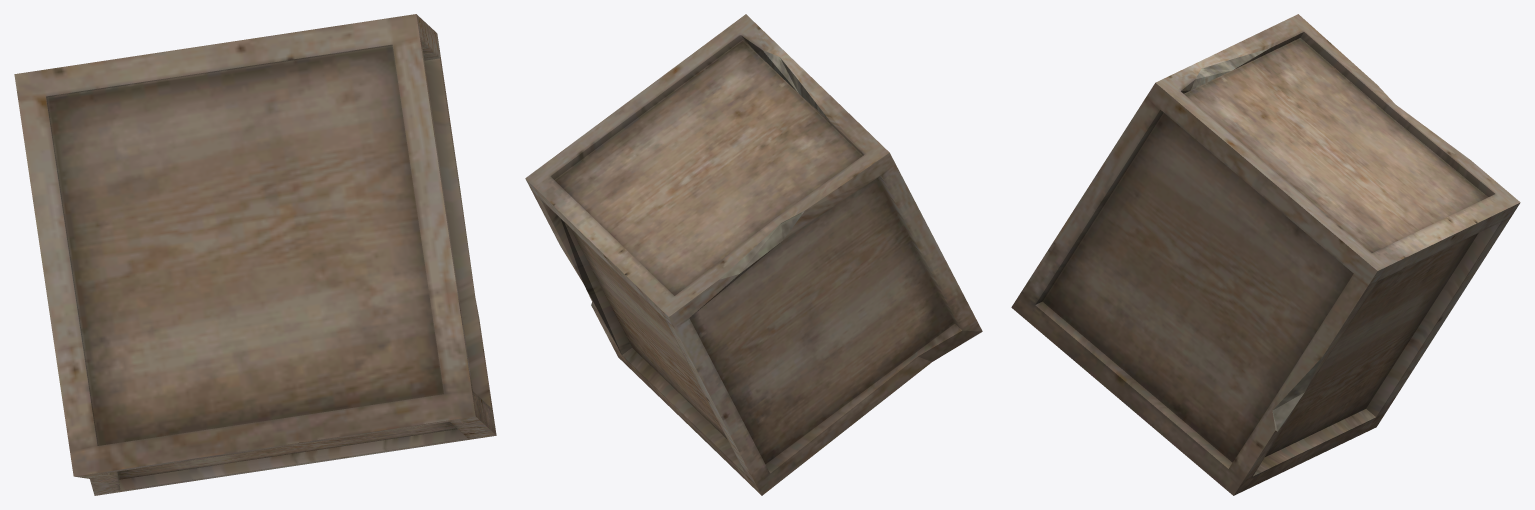
The model's file is ItemSpot.fbx.
The picture shows the model from 3 angles, left to right: view 1: azimuth 30°, elevation 25°; view 2: azimuth 150°, elevation 25°; view 3: azimuth 270°, elevation 25°; orthographic projection. The views are drawn at different scales.
Visible parts, largest first — view 1: ItemBox_Box_01; view 2: ItemBox_Box_01; view 3: ItemBox_Box_01.
Part boxes in pixels (bbox=[...]): ItemBox_Box_01: bbox=[14, 14, 496, 495]; ItemBox_Box_01: bbox=[525, 14, 982, 495]; ItemBox_Box_01: bbox=[1011, 14, 1520, 495].
Size of the model in its own units: 1.15 by 1.17 by 1.33.
1 material, 1 textured.
